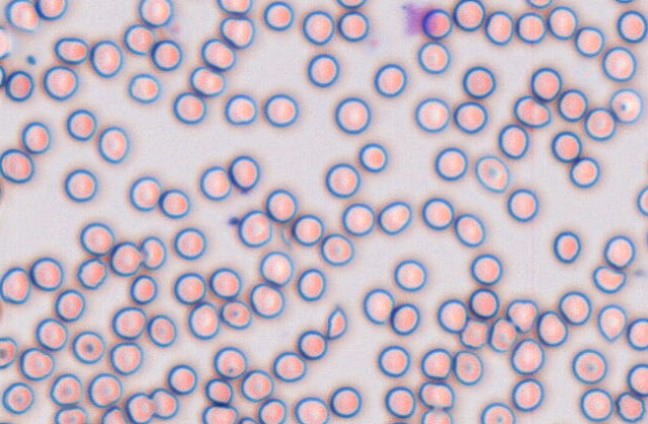PLT: (25, 53, 38, 66), (227, 214, 238, 226)
RBC: (334, 96, 371, 134), (474, 154, 509, 192), (571, 348, 607, 384), (238, 209, 272, 247), (510, 337, 544, 375), (89, 39, 123, 77), (249, 282, 284, 318), (19, 346, 55, 381), (325, 162, 360, 198), (42, 65, 78, 100), (414, 97, 450, 132), (609, 87, 643, 124), (87, 372, 122, 407), (259, 250, 293, 286), (602, 45, 636, 81), (513, 95, 551, 127), (187, 301, 219, 339), (97, 125, 129, 163), (0, 148, 34, 183), (79, 221, 114, 255), (377, 200, 412, 234), (29, 256, 63, 291), (263, 93, 298, 127), (219, 15, 255, 48), (128, 175, 161, 211), (362, 287, 394, 324), (189, 65, 226, 97), (228, 154, 260, 191), (0, 266, 31, 304), (596, 303, 627, 341), (579, 387, 613, 421), (49, 372, 83, 406), (240, 368, 274, 402), (373, 63, 407, 97), (109, 341, 143, 375), (71, 330, 105, 364), (434, 146, 468, 180), (341, 202, 375, 236), (109, 241, 142, 276), (111, 306, 146, 339), (200, 37, 235, 70), (558, 290, 591, 325), (536, 310, 568, 346), (497, 123, 529, 159), (35, 317, 68, 351), (511, 377, 544, 411), (213, 346, 247, 379), (64, 168, 97, 202), (320, 232, 354, 265), (453, 100, 487, 133), (506, 188, 539, 222), (172, 91, 206, 124), (173, 226, 206, 260), (583, 107, 616, 141), (4, 0, 39, 32), (436, 298, 468, 333), (530, 66, 562, 101), (265, 188, 297, 223), (603, 234, 635, 269), (199, 165, 231, 200), (302, 10, 334, 45), (452, 349, 483, 385), (1, 381, 34, 414), (173, 271, 206, 304), (377, 344, 410, 377), (291, 213, 324, 246), (417, 41, 450, 74), (421, 197, 454, 230), (462, 65, 495, 98), (546, 5, 578, 39), (307, 53, 339, 87), (469, 253, 503, 285), (393, 259, 427, 291), (454, 212, 485, 247), (420, 347, 452, 380), (224, 93, 257, 125), (54, 288, 85, 322), (272, 351, 306, 382), (616, 9, 647, 43), (127, 72, 161, 103), (484, 10, 514, 45), (418, 380, 454, 409), (209, 267, 241, 299), (329, 385, 361, 417), (150, 39, 182, 71), (389, 302, 420, 335), (384, 385, 415, 418), (557, 88, 588, 121), (66, 108, 97, 141), (296, 267, 326, 301), (468, 287, 499, 319), (453, 0, 485, 31), (123, 23, 154, 55), (515, 11, 546, 43), (76, 257, 107, 289), (569, 156, 600, 188), (574, 25, 605, 57), (551, 130, 582, 162), (21, 121, 51, 154), (54, 36, 89, 64), (421, 8, 452, 39), (263, 0, 294, 31), (149, 387, 179, 419), (125, 391, 155, 423), (158, 188, 190, 218), (220, 299, 252, 329), (337, 11, 369, 41), (552, 230, 581, 263), (147, 314, 176, 347), (294, 396, 329, 423), (138, 0, 173, 27), (458, 318, 488, 349), (615, 391, 645, 422), (167, 363, 197, 394), (297, 329, 327, 359), (358, 142, 388, 172), (5, 70, 34, 101), (129, 274, 157, 304), (204, 377, 233, 405), (257, 397, 287, 423), (480, 402, 515, 423), (201, 403, 237, 423), (626, 363, 647, 396), (626, 317, 647, 350), (35, 0, 67, 20), (54, 405, 87, 423), (0, 336, 17, 369), (216, 0, 252, 15), (420, 407, 453, 423), (100, 405, 127, 423), (0, 25, 12, 59), (636, 185, 648, 216), (335, 0, 366, 9), (525, 0, 553, 9), (237, 416, 258, 423), (0, 64, 5, 88), (0, 298, 4, 327), (644, 226, 648, 252), (0, 176, 3, 207), (387, 420, 409, 424), (645, 152, 648, 181), (612, 0, 636, 3), (0, 211, 2, 240)
Schistocyte: (508, 299, 539, 334), (491, 316, 518, 352), (594, 264, 626, 294), (142, 237, 167, 270), (327, 305, 349, 340), (281, 222, 293, 247)
